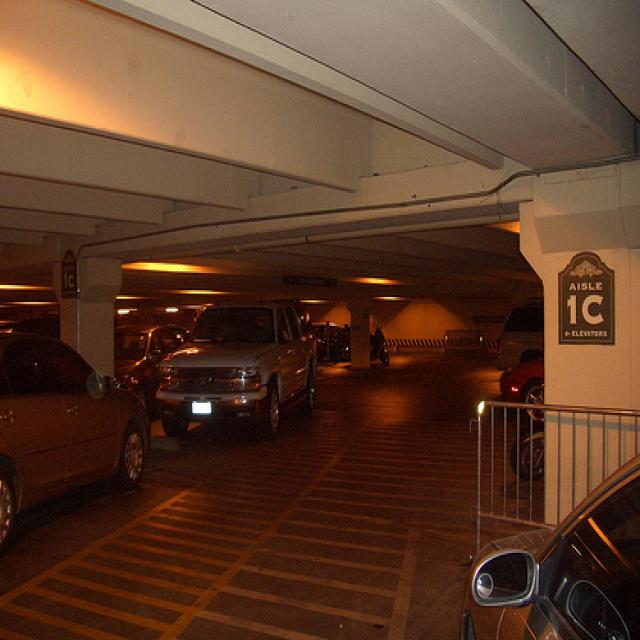Car: (462, 437, 640, 638), (0, 318, 155, 539), (150, 289, 322, 444)
